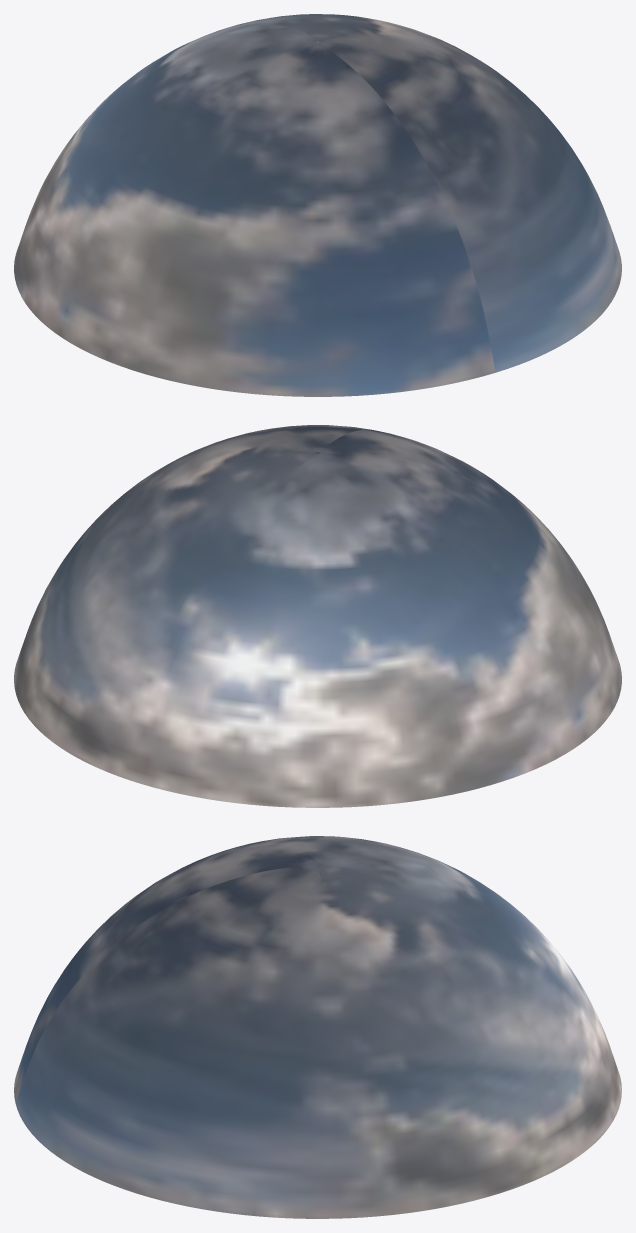
The model's file is postwar_city_-_exterior_scene-optimized.glb.
3 renders of one model, top to bottom at view 1: azimuth 30°, elevation 25°; view 2: azimuth 150°, elevation 25°; view 3: azimuth 270°, elevation 25°, orthographic.
Parts seen in each view (by area): view 1: Sphere; view 2: Sphere; view 3: Sphere.
Boxes of the visible parts, x1,y1,x2,y2 form: Sphere: (14,14,621,396); Sphere: (14,425,621,807); Sphere: (14,836,621,1218).
Size of what is drawn, in the model's own units: 168 by 69.07 by 168.
Materials: 75 (75 with a texture image).
